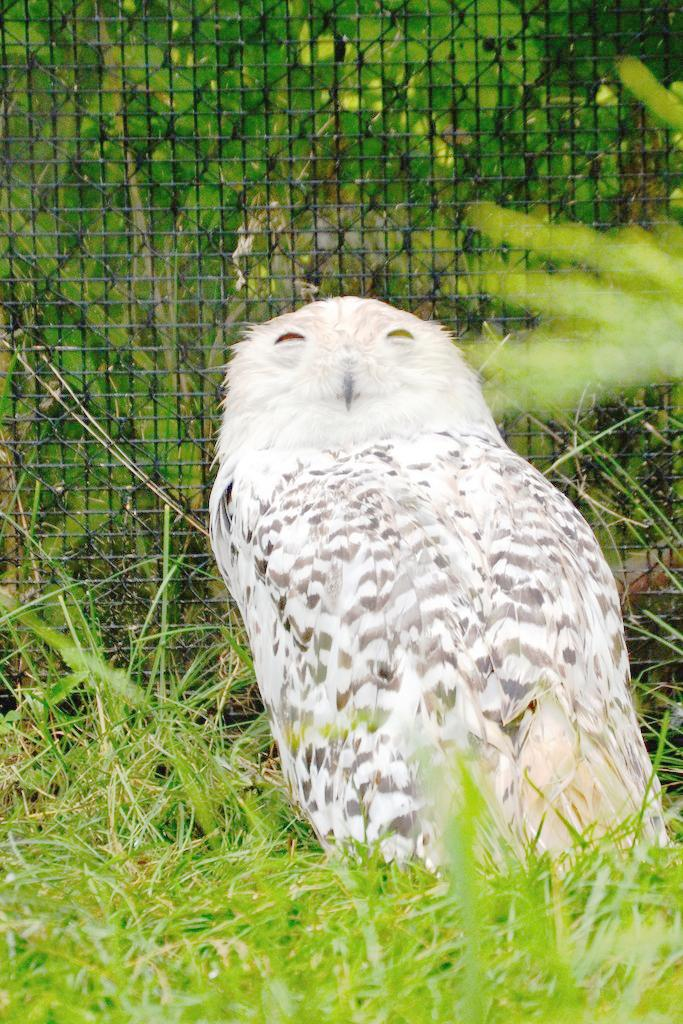Owl: (207, 292, 674, 880)
